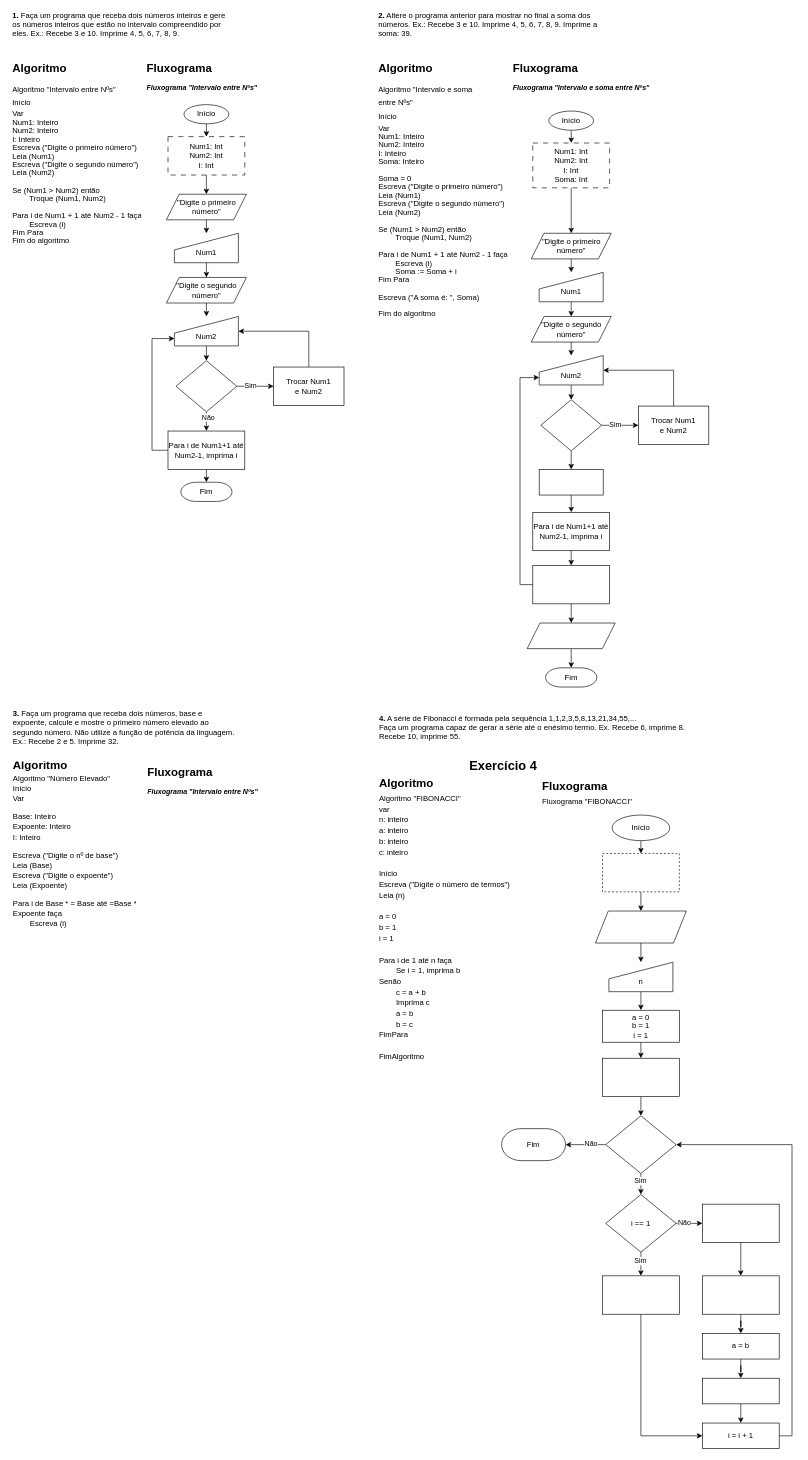
Some shapes in this 808 by 1460 pixel diagram are drawn without their labels. Here are the shapes that lost their labels. From the top down, the centre of each, then its label:
pixel 206 386: Num1 > Num2?
pixel 571 425: Se Num1 > Num2
pixel 571 482: Soma=0
pixel 571 584: Soma := Soma + i
pixel 571 635: "A soma é: ", Soma
pixel 640 872: n, a, b, c: int
pixel 640 926: "Digite o número de termos"
pixel 640 1077: Para i de 1 até n
pixel 640 1144: i <= n
pixel 740 1223: c = a + b
pixel 640 1294: Imprimir b
pixel 740 1294: Imprimir c
pixel 740 1391: b = c
